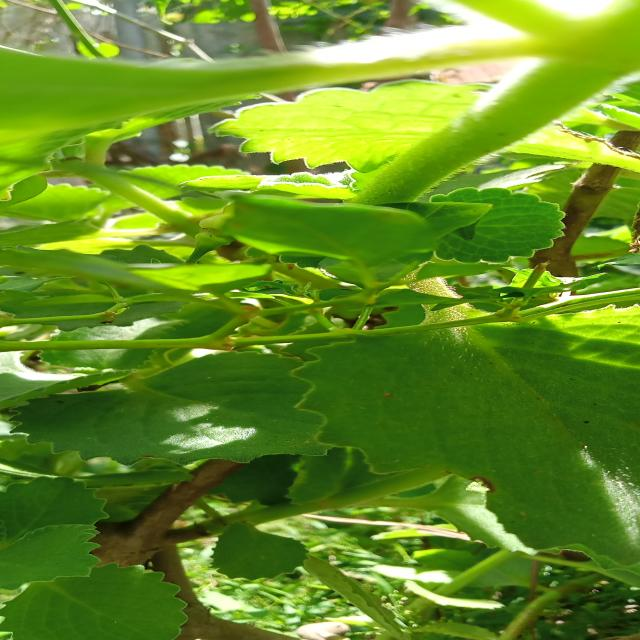Oregano: (302, 308, 640, 592), (169, 174, 599, 286)
